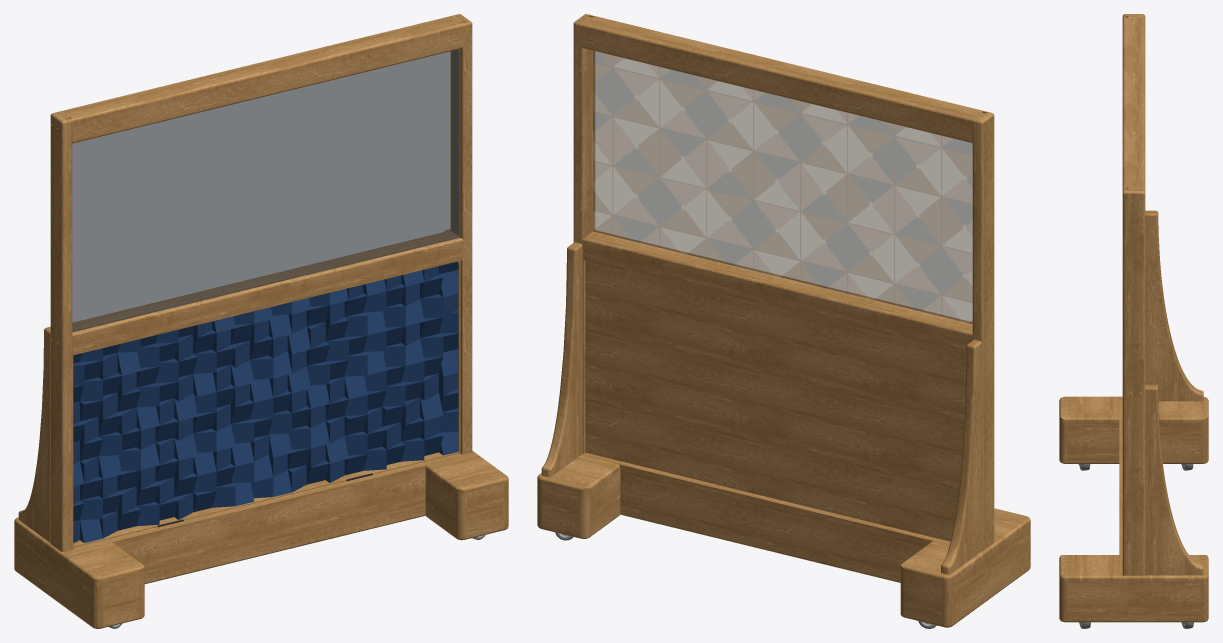
File: v10-linen-marquetry-honey-oak-one.glb
3 renders of one model, left to right at view 1: azimuth 30°, elevation 25°; view 2: azimuth 150°, elevation 25°; view 3: azimuth 270°, elevation 25°, orthographic. The views are drawn at different scales.
Parts seen in each view (by area): view 1: Wood, Linen Marquetry reverse, Navy Everwood relief; view 2: Wood, Linen Marquetry print; view 3: Wood, Nonmarking rubber.
Boxes of the visible parts, x1=… form: Wood: x1=14, y1=14, x2=508, y2=628; Linen Marquetry reverse: x1=72, y1=49, x2=460, y2=331; Navy Everwood relief: x1=73, y1=261, x2=458, y2=543; Wood: x1=537, y1=14, x2=1030, y2=627; Linen Marquetry print: x1=593, y1=51, x2=972, y2=323; Wood: x1=1059, y1=14, x2=1208, y2=622; Nonmarking rubber: x1=1079, y1=464, x2=1193, y2=628.
Size of the model in its own units: 1.68 by 1.91 by 0.5842.
Materials: 10 (2 with a texture image).
